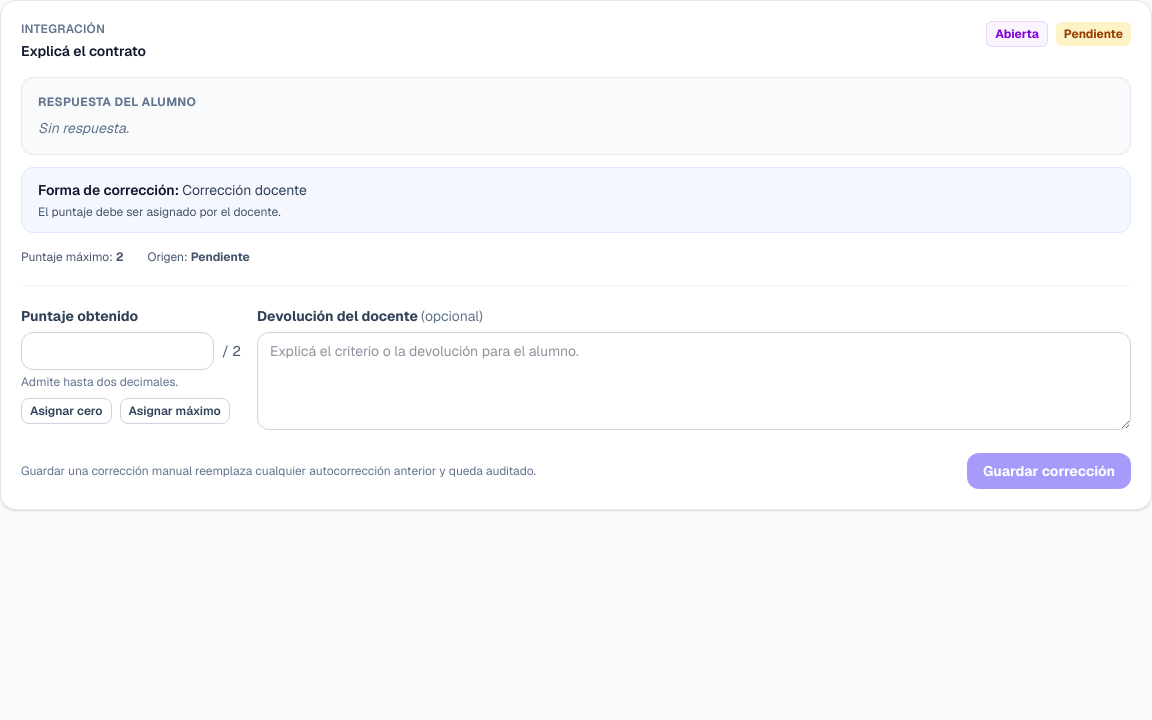
Test case: QuestionCorrectionCard › rechaza puntajes superiores al máximo
Type "3" into the number field labelled "Puntaje obtenido" at (118, 351), box [21,332,214,370]
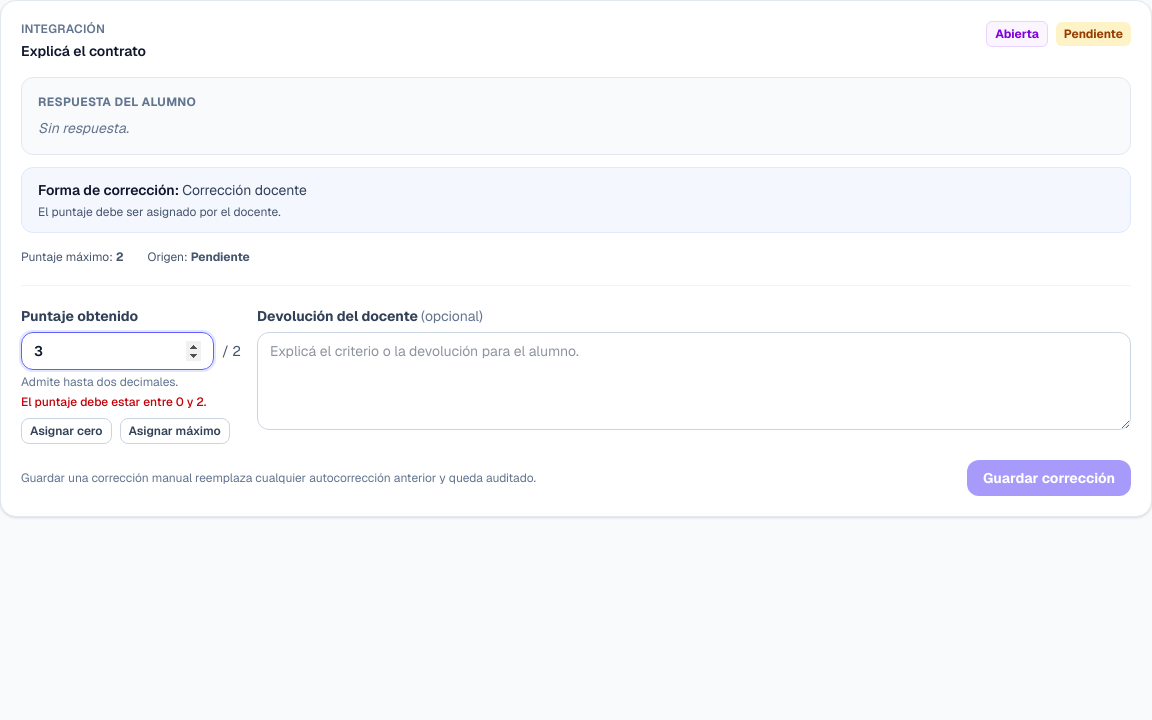
Expected: the button "Guardar corrección" is disabled, [967,460,1131,496]
Expected: the text "El puntaje debe estar entre 0 y 2." is shown, [21,394,206,410]
